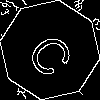C: (25, 25, 83, 81)
